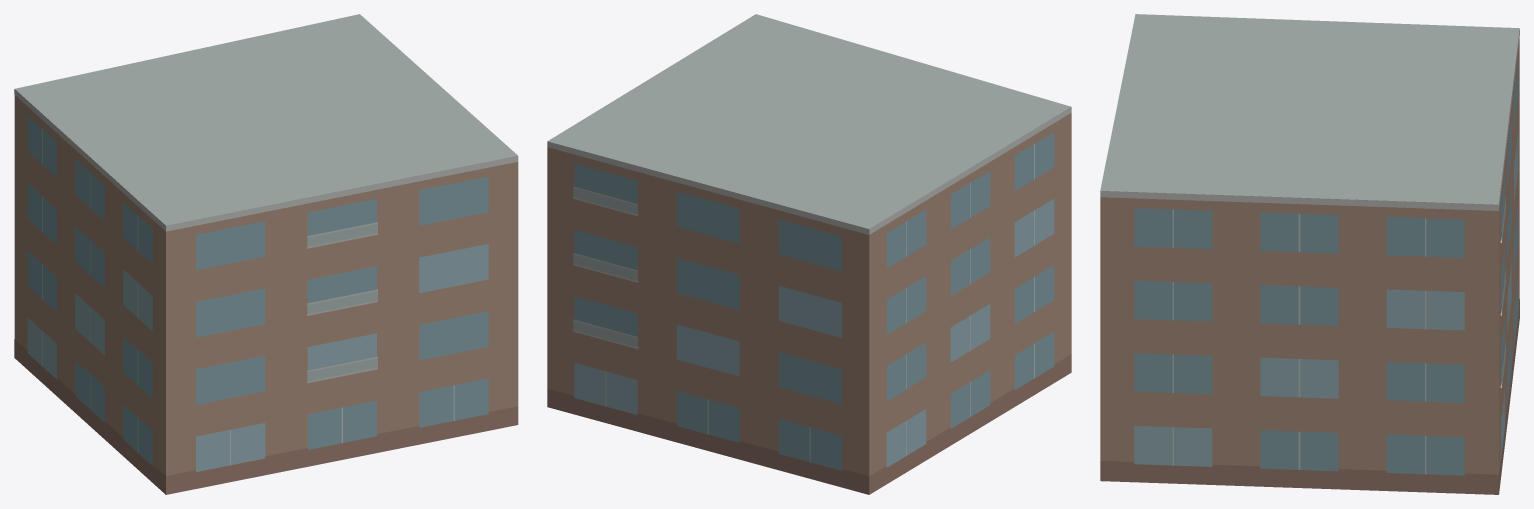
File: survey-upis-32628458.glb
3 renders of one model, left to right at view 1: azimuth 30°, elevation 25°; view 2: azimuth 150°, elevation 25°; view 3: azimuth 270°, elevation 25°, orthographic. The views are drawn at different scales.
Parts seen in each view (by area): view 1: survey-upis-32628458.tmp; view 2: survey-upis-32628458.tmp; view 3: survey-upis-32628458.tmp.
Boxes of the visible parts, x1,y1,x2,y2 form: survey-upis-32628458.tmp: (14, 14, 518, 494); survey-upis-32628458.tmp: (547, 14, 1071, 494); survey-upis-32628458.tmp: (1100, 14, 1519, 494).
Size of the model in its own units: 15.65 by 11.1 by 14.55.
